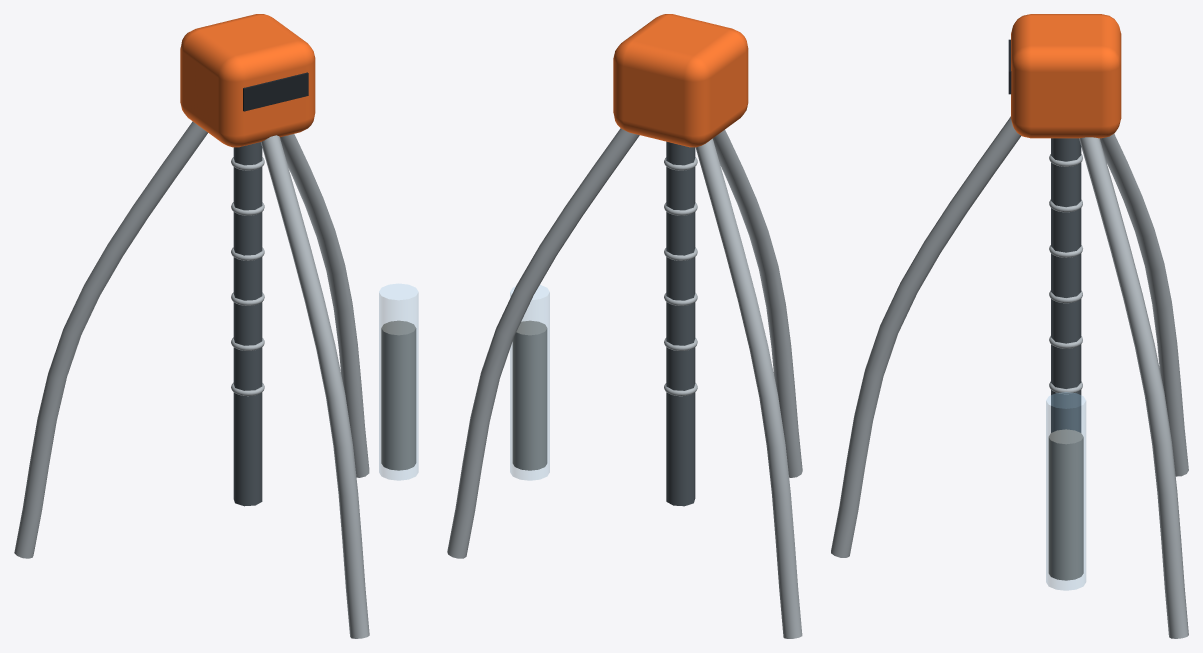
The model's file is science-drill.glb.
The picture shows the model from 3 angles, left to right: view 1: azimuth 30°, elevation 25°; view 2: azimuth 150°, elevation 25°; view 3: azimuth 270°, elevation 25°; orthographic projection.
Parts seen in each view (by area): view 1: science-drill-aluminium, drill_head-safety-orange, science-drill-dark-steel, core_sample-glass, core_sample-moon-dust, drill_head-dark-polymer, drill_bit-aluminium; view 2: science-drill-aluminium, drill_head-safety-orange, science-drill-dark-steel, core_sample-glass, core_sample-moon-dust, drill_bit-aluminium; view 3: science-drill-aluminium, drill_head-safety-orange, science-drill-dark-steel, core_sample-glass, core_sample-moon-dust, drill_bit-aluminium.
Boxes of the visible parts, x1,y1,x2,y2 form: science-drill-aluminium: (14, 121, 369, 638); drill_head-safety-orange: (180, 14, 315, 147); science-drill-dark-steel: (233, 142, 262, 506); core_sample-glass: (379, 284, 418, 480); core_sample-moon-dust: (381, 320, 416, 470); drill_head-dark-polymer: (243, 72, 308, 111); drill_bit-aluminium: (231, 157, 264, 396); science-drill-aluminium: (447, 128, 802, 638); drill_head-safety-orange: (613, 14, 748, 147); science-drill-dark-steel: (666, 141, 695, 506); core_sample-glass: (510, 285, 549, 480); core_sample-moon-dust: (512, 320, 547, 470); drill_bit-aluminium: (664, 157, 697, 396); science-drill-aluminium: (831, 116, 1188, 638); drill_head-safety-orange: (1011, 14, 1121, 138); science-drill-dark-steel: (1051, 138, 1081, 432); core_sample-glass: (1046, 392, 1085, 590); core_sample-moon-dust: (1048, 429, 1083, 580); drill_bit-aluminium: (1049, 154, 1082, 394).
Size of the model in its own units: 0.8177 by 1.15 by 0.7135.
